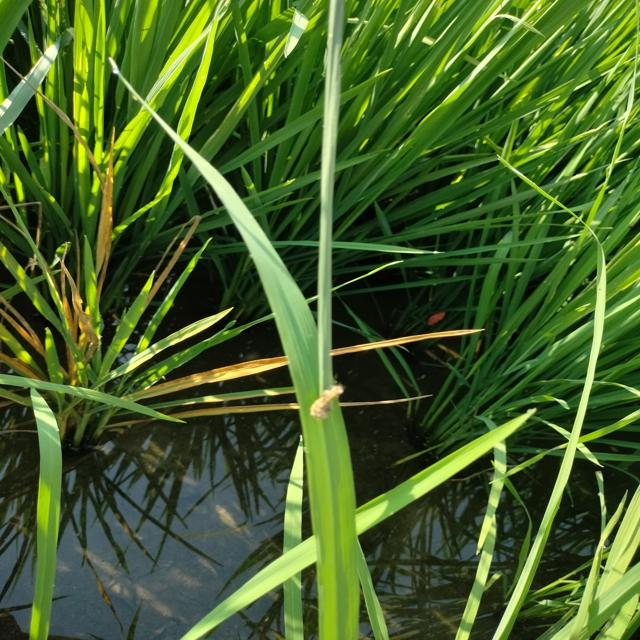Brown spot: (158, 327, 491, 397), (53, 252, 104, 383), (89, 124, 129, 289)
